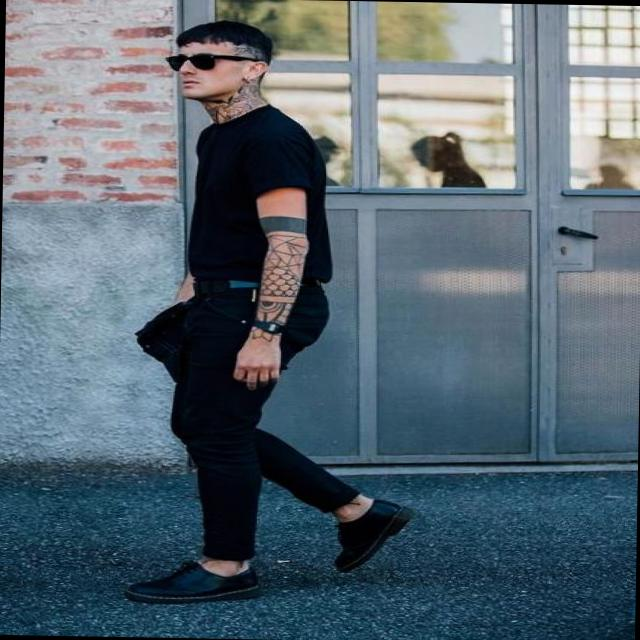glasses: (165, 52, 262, 72)
